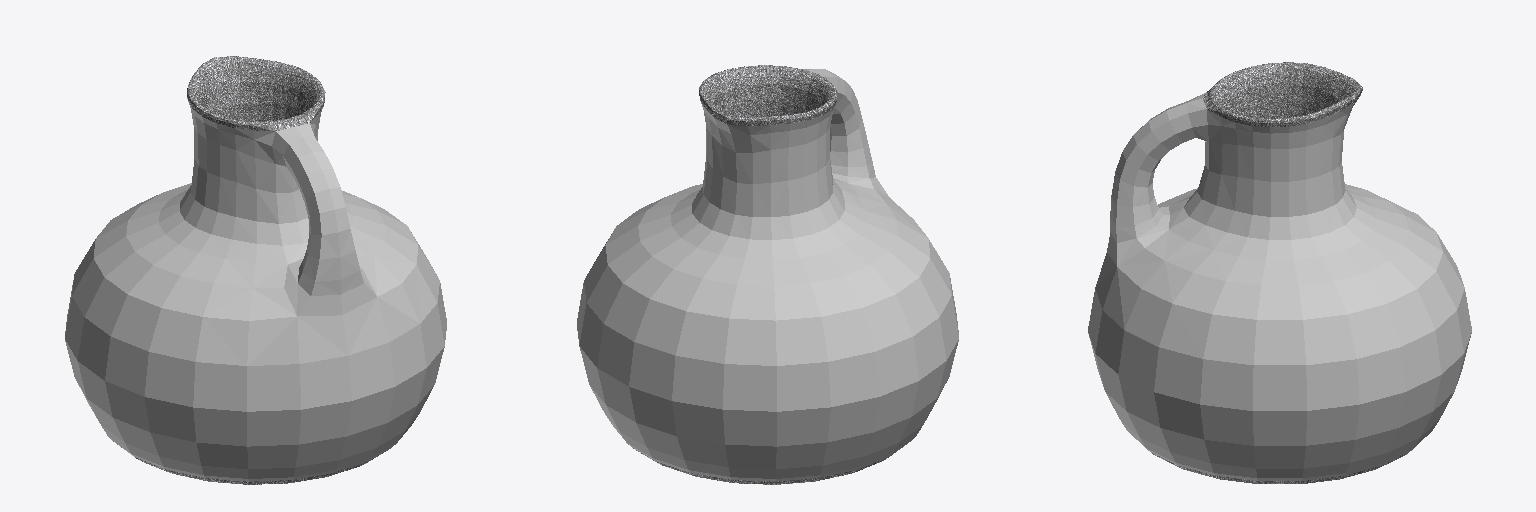
3 views of the same model, side by side, from view 1: azimuth 30°, elevation 25°; view 2: azimuth 150°, elevation 25°; view 3: azimuth 270°, elevation 25° (orthographic).
Visible parts, largest first — view 1: Cylinder.002; view 2: Cylinder.002; view 3: Cylinder.002.
Boxes of the visible parts, x1,y1,x2,y2 form: Cylinder.002: [65, 56, 446, 484]; Cylinder.002: [577, 65, 958, 484]; Cylinder.002: [1088, 62, 1471, 483].
Bounding box in the file's own units: 1.22 × 1.19 × 1.23.
Materials: 2 (1 with a texture image).